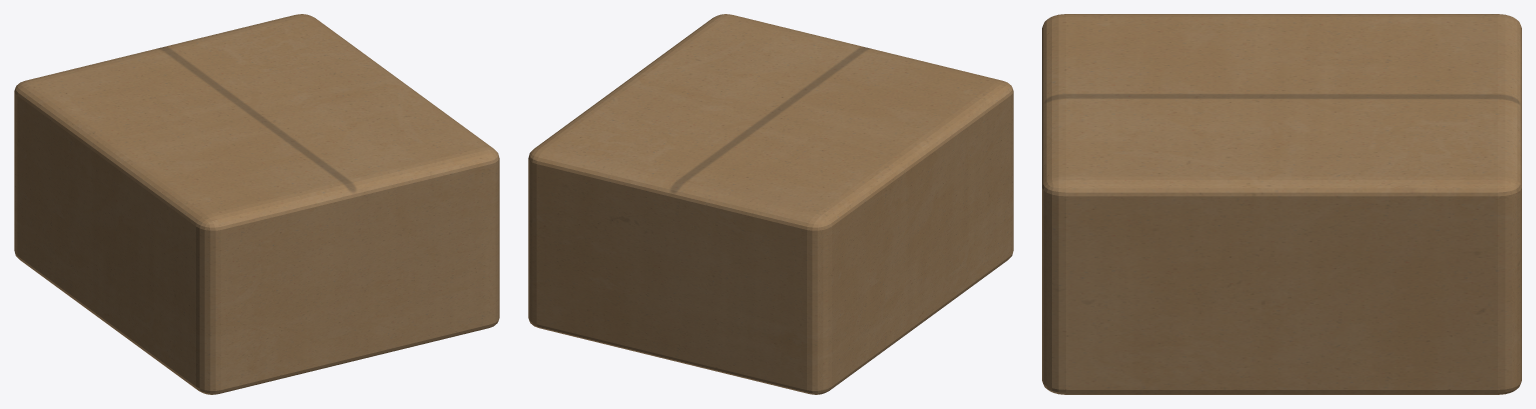
The model's file is boxclosed.fbx.
3 renders of one model, left to right at view 1: azimuth 30°, elevation 25°; view 2: azimuth 150°, elevation 25°; view 3: azimuth 270°, elevation 25°, orthographic. The views are drawn at different scales.
Visible parts, largest first — view 1: Cube; view 2: Cube; view 3: Cube.
Boxes of the visible parts, x1=… form: Cube: x1=14, y1=14, x2=499, y2=394; Cube: x1=528, y1=14, x2=1013, y2=394; Cube: x1=1042, y1=14, x2=1521, y2=394.
Bounding box in the file's own units: 200 × 113 × 229.
